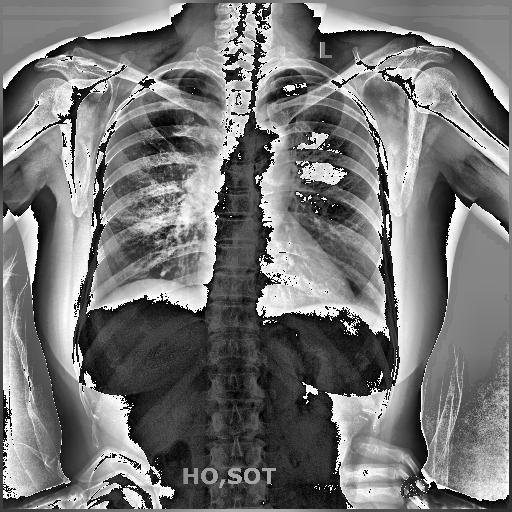0- Aortic enlargement: (244, 118, 293, 194), (244, 120, 294, 184), (254, 121, 288, 181)
5- ILD: (125, 148, 185, 245)
6- Infiltration: (122, 165, 180, 249), (120, 172, 181, 234)
9- Other lesion: (368, 196, 373, 201)
